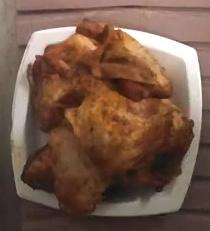chicken: (20, 19, 192, 213)
